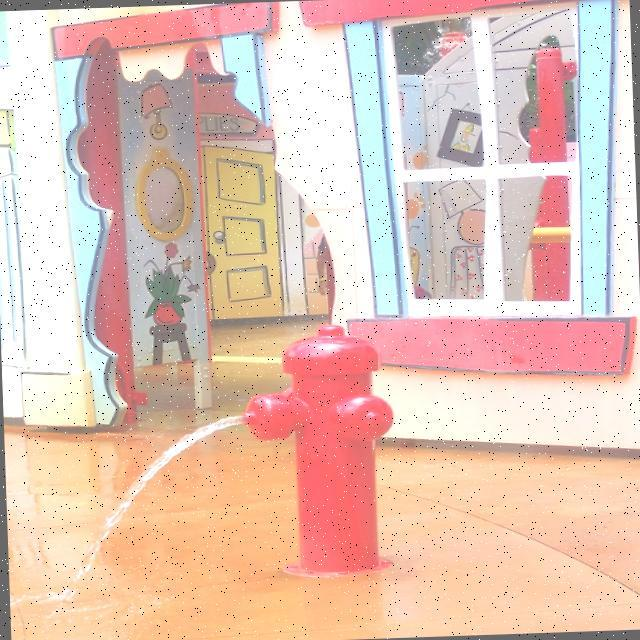fire_hydrant: (240, 318, 397, 584)
